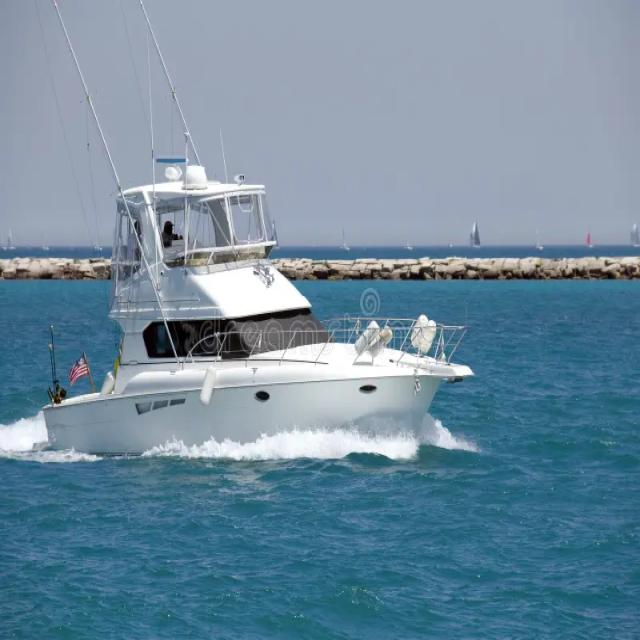Fishing Boat: (0, 115, 493, 482)
